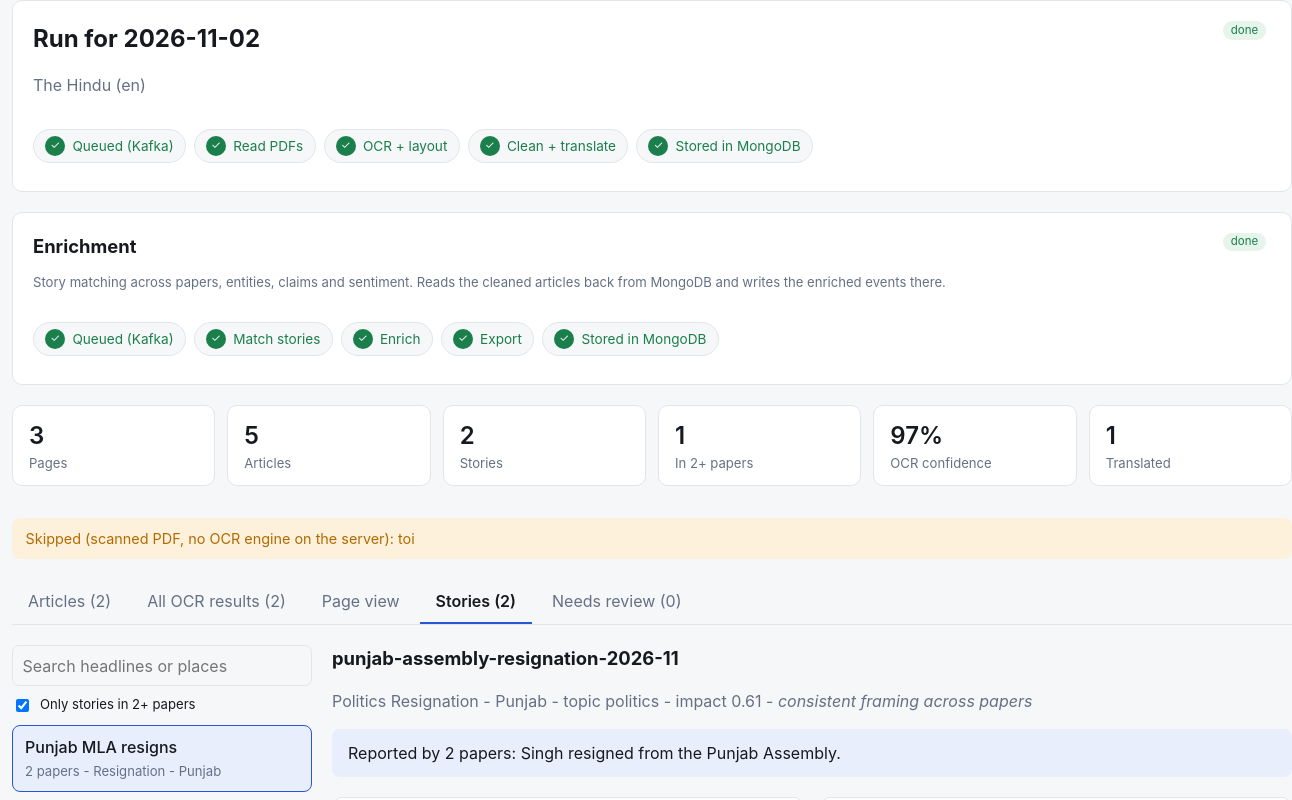
Test: RunPage › warns when a scanned paper was skipped and shows the all-clear review state
The width and height of the screenshot is (1292, 800).
Expected: the text "Skipped (scanned PDF, no OCR engine on the server): toi" is shown, [12, 518, 1291, 559]
Step 1. Click the tab "Needs review (0)" → x=617, y=602, box [536, 579, 698, 624]
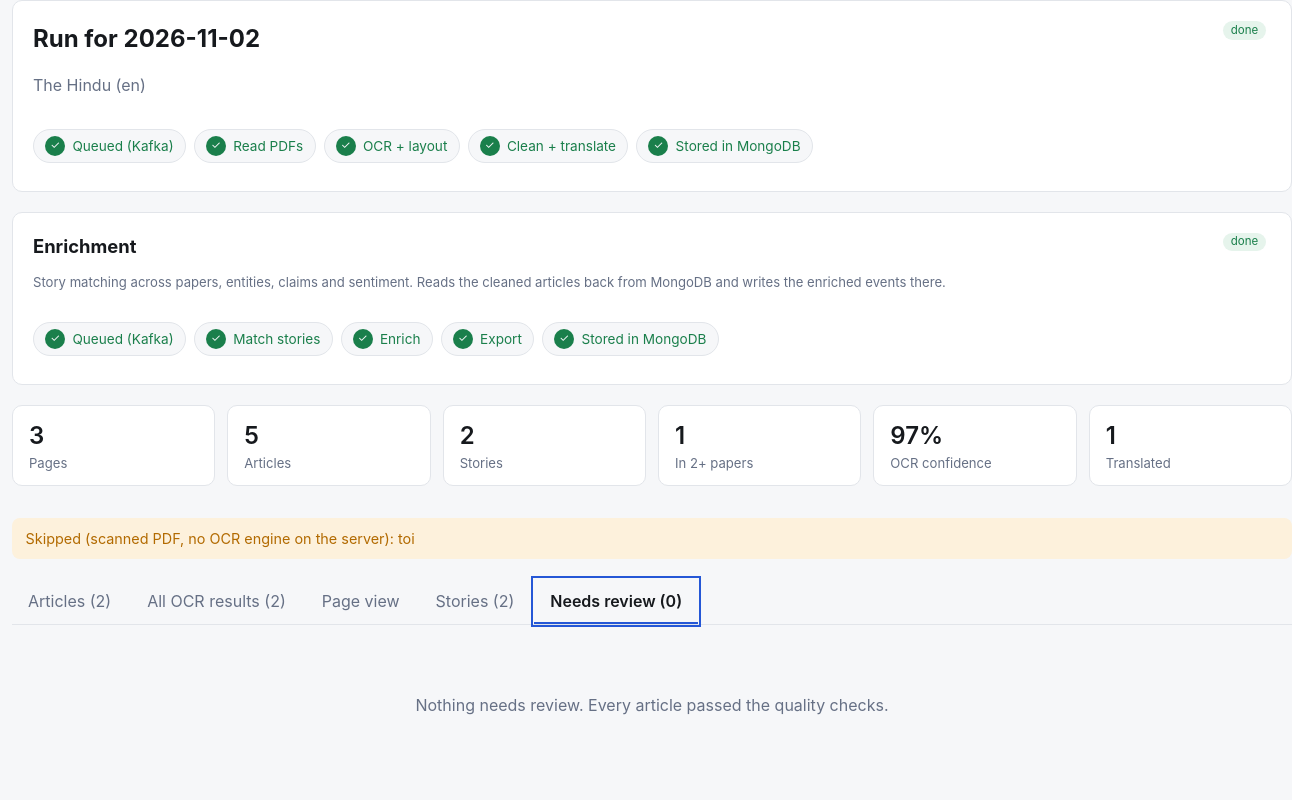
Now the text "Nothing needs review" is shown, box [416, 695, 889, 715]
